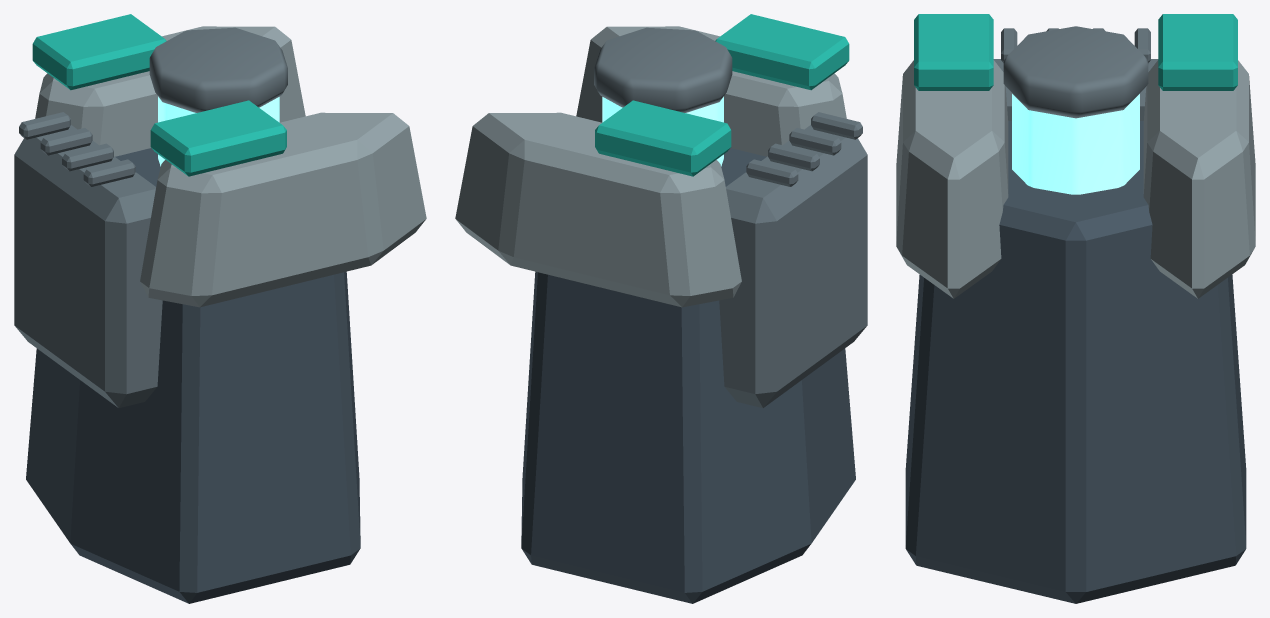
The model's file is SM_Needle_Body.fbx.
The picture shows the model from 3 angles, left to right: view 1: azimuth 30°, elevation 25°; view 2: azimuth 150°, elevation 25°; view 3: azimuth 270°, elevation 25°; orthographic projection. The views are drawn at different scales.
Visible parts, largest first — view 1: SM_Needle_Body; view 2: SM_Needle_Body; view 3: SM_Needle_Body.
Boxes of the visible parts, bbox=[...] form: SM_Needle_Body: bbox=[14, 14, 426, 603]; SM_Needle_Body: bbox=[455, 14, 867, 603]; SM_Needle_Body: bbox=[896, 14, 1255, 603].
Bounding box in the file's own units: 19.83 × 19.19 × 28.47.
